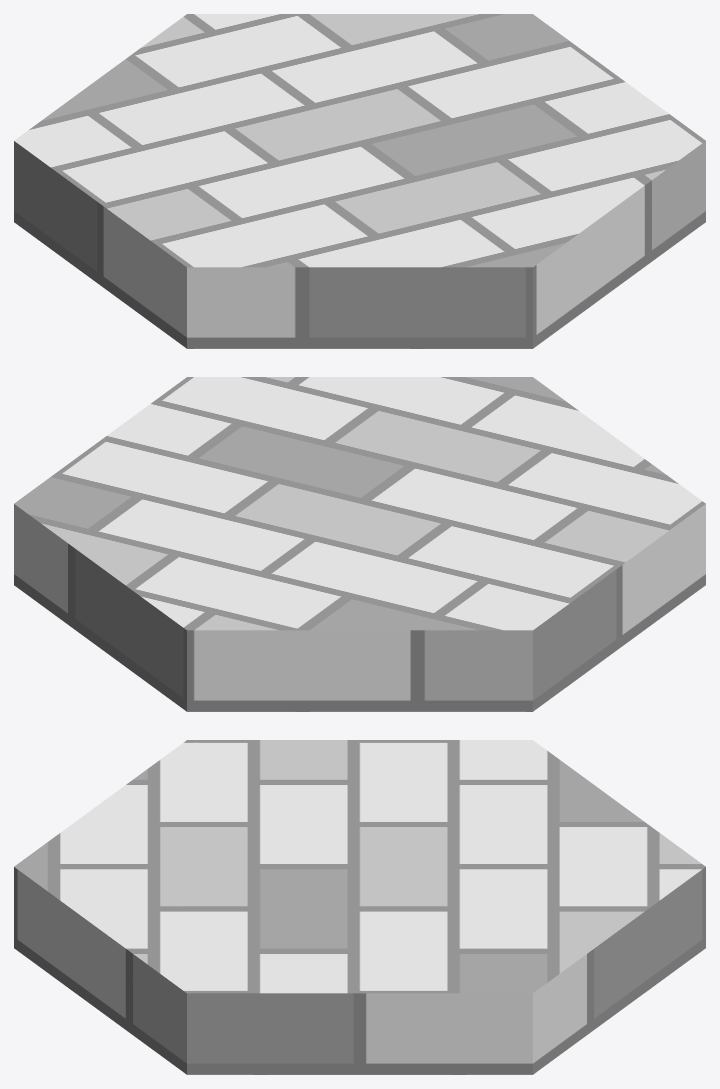
File: DefaultTile.fbx
3 renders of one model, top to bottom at view 1: azimuth 30°, elevation 25°; view 2: azimuth 150°, elevation 25°; view 3: azimuth 270°, elevation 25°, orthographic.
Parts seen in each view (by area): view 1: hexagon; view 2: hexagon; view 3: hexagon.
Boxes of the visible parts, bbox=[...] form: hexagon: bbox=[14, 14, 705, 348]; hexagon: bbox=[14, 377, 705, 711]; hexagon: bbox=[14, 740, 705, 1074].
Size of the model in its own units: 7.5 by 1.12 by 8.66.
1 material, 1 textured.
